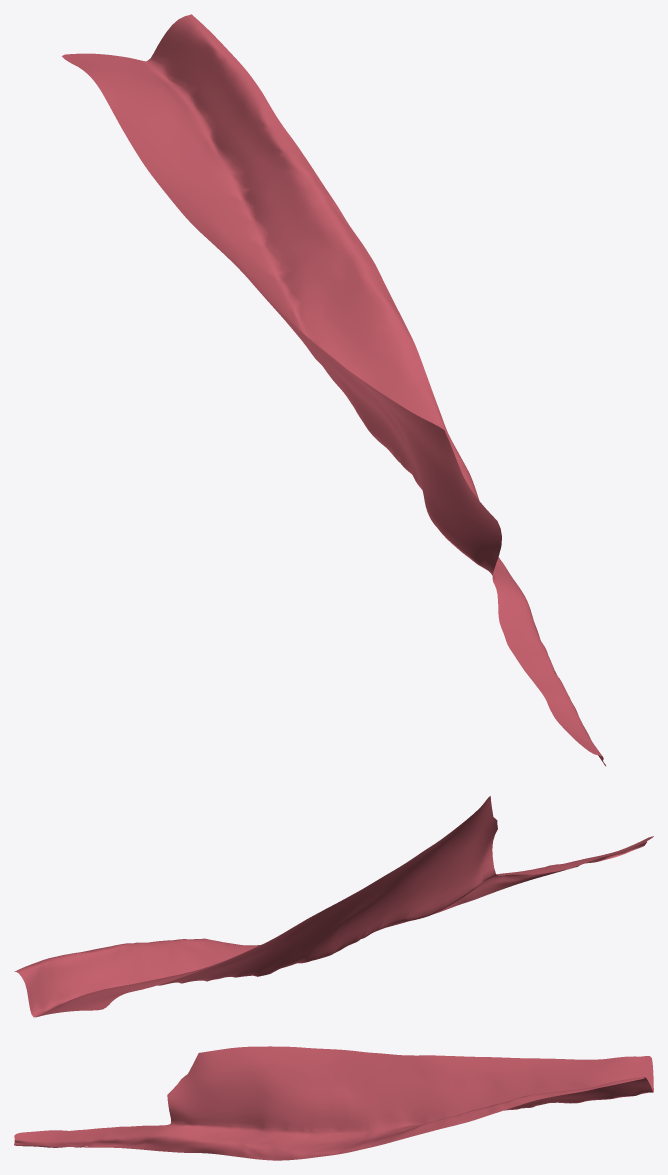
The picture shows the model from 3 angles, top to bottom: view 1: azimuth 30°, elevation 25°; view 2: azimuth 150°, elevation 25°; view 3: azimuth 270°, elevation 25°; orthographic projection. The views are drawn at different scales.
Visible parts, largest first — view 1: 右侧股内侧肌间隔; view 2: 右侧股内侧肌间隔; view 3: 右侧股内侧肌间隔.
Part boxes in pixels (x1,y1,x2,y2): 右侧股内侧肌间隔: (62,14,605,766); 右侧股内侧肌间隔: (14,796,653,1017); 右侧股内侧肌间隔: (14,1046,653,1160).
Bounding box in the file's own units: 0.1267 × 0.1235 × 0.5981.
